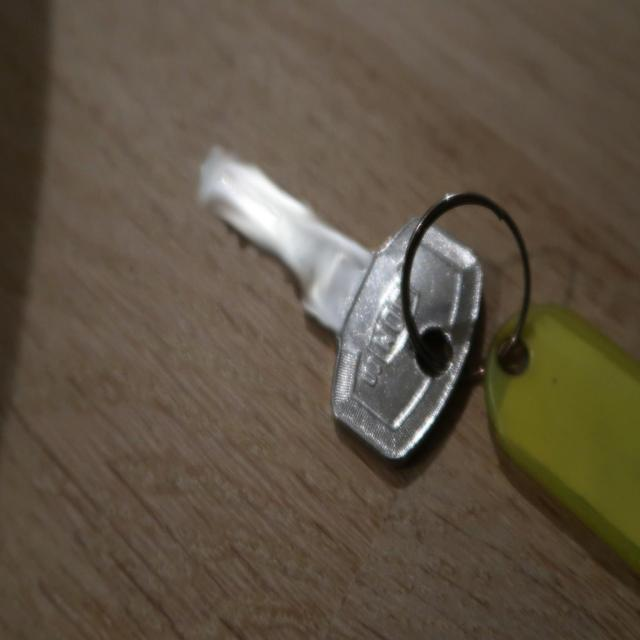Frontdoor keys: (191, 143, 487, 459)
